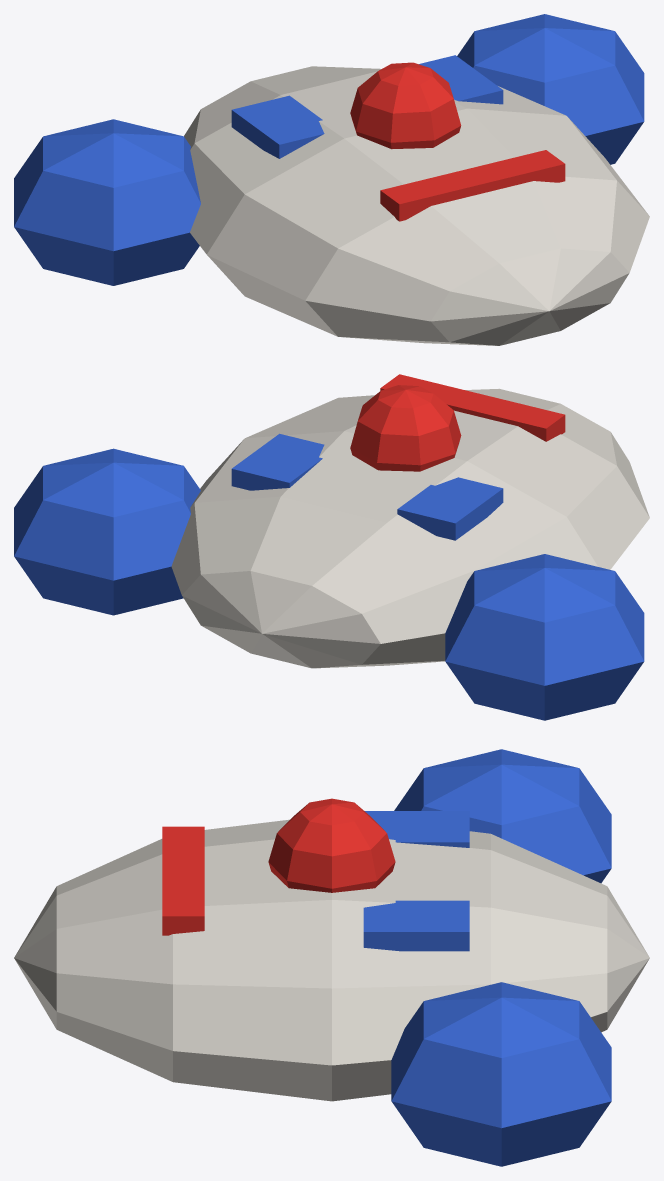
The model's file is clown_mask.glb.
3 views of the same model, one above another, from view 1: azimuth 30°, elevation 25°; view 2: azimuth 150°, elevation 25°; view 3: azimuth 270°, elevation 25° (orthographic). The views are drawn at different scales.
Visible parts, largest first — view 1: face_clown_white, hair_clown_blue (×2), nose_clown_red, eyes_clown_blue (×2), smile_clown_red; view 2: face_clown_white, hair_clown_blue (×2), eyes_clown_blue (×2), nose_clown_red, smile_clown_red; view 3: face_clown_white, hair_clown_blue (×2), nose_clown_red, eyes_clown_blue (×2), smile_clown_red.
Part boxes in pixels (box(x1,y1,x2,y2)): face_clown_white: box(184, 66, 649, 345); hair_clown_blue (×2): box(14, 14, 644, 285); nose_clown_red: box(350, 62, 461, 149); eyes_clown_blue (×2): box(231, 55, 503, 158); smile_clown_red: box(380, 150, 565, 221); face_clown_white: box(171, 388, 649, 668); hair_clown_blue (×2): box(14, 448, 644, 720); eyes_clown_blue (×2): box(231, 433, 503, 540); nose_clown_red: box(350, 385, 461, 471); smile_clown_red: box(380, 374, 565, 441); face_clown_white: box(14, 819, 649, 1101); hair_clown_blue (×2): box(391, 749, 611, 1166); nose_clown_red: box(268, 798, 395, 892); eyes_clown_blue (×2): box(363, 811, 469, 951); smile_clown_red: box(162, 826, 204, 935).
Size of the model in its own units: 0.38 by 0.1276 by 0.3.
